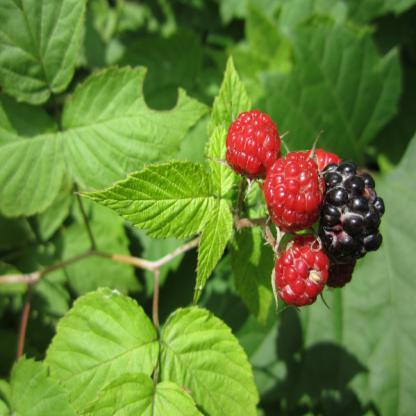raspberry leaf: (74, 156, 216, 236)
